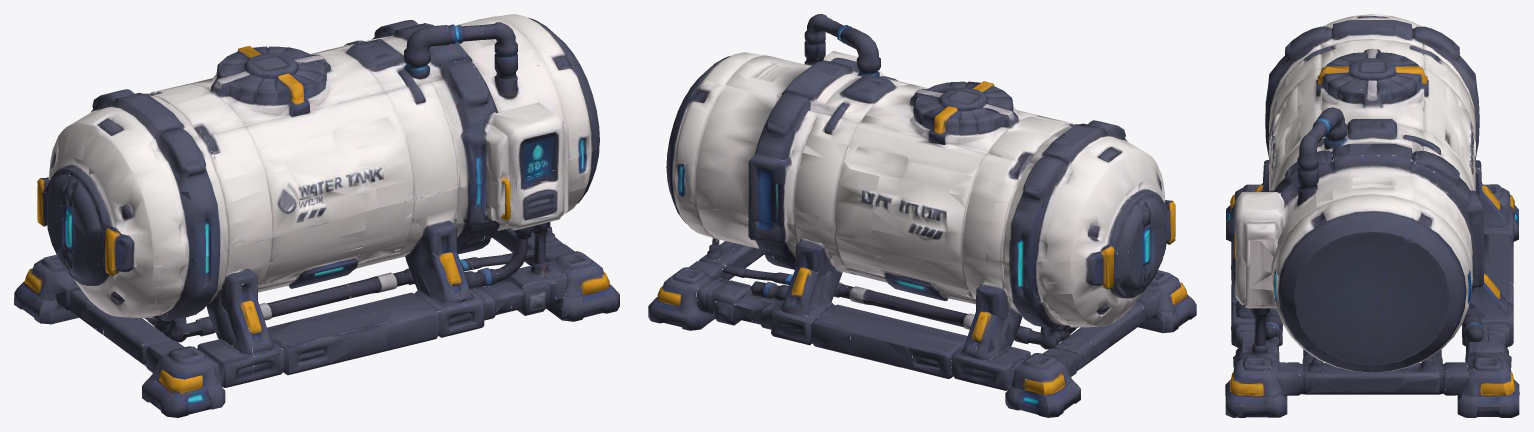
File: WaterTank.glb
The picture shows the model from 3 angles, left to right: view 1: azimuth 30°, elevation 25°; view 2: azimuth 150°, elevation 25°; view 3: azimuth 270°, elevation 25°; orthographic projection. The views are drawn at different scales.
Parts seen in each view (by area): view 1: tripo_node_6244c502-fb6f-4ce7-9a43-42bab8eb425a; view 2: tripo_node_6244c502-fb6f-4ce7-9a43-42bab8eb425a; view 3: tripo_node_6244c502-fb6f-4ce7-9a43-42bab8eb425a.
Part boxes in pixels (box(x1,y1,x2,y2)): tripo_node_6244c502-fb6f-4ce7-9a43-42bab8eb425a: box(14, 14, 619, 417); tripo_node_6244c502-fb6f-4ce7-9a43-42bab8eb425a: box(648, 14, 1196, 417); tripo_node_6244c502-fb6f-4ce7-9a43-42bab8eb425a: box(1225, 14, 1519, 417).
Size of the model in its own units: 0.9999 by 0.5344 by 0.5724.
1 material, 1 textured.
